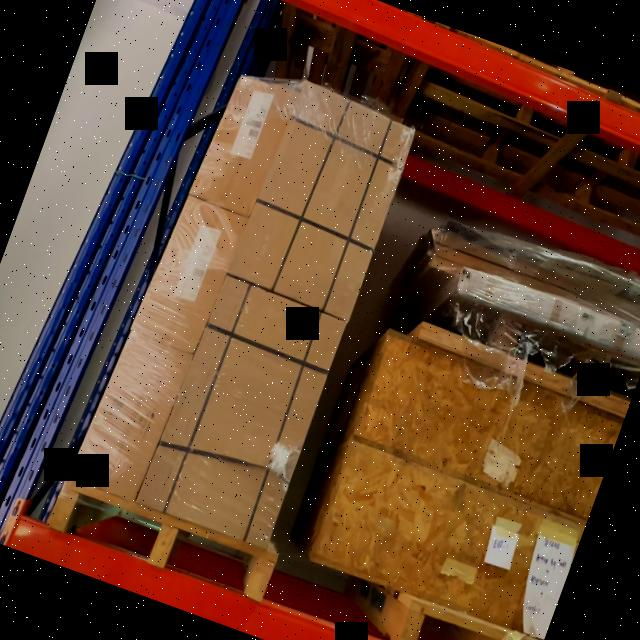box: (144, 278, 347, 549), (232, 89, 414, 315), (80, 332, 190, 500), (140, 196, 244, 352), (198, 76, 292, 215)
